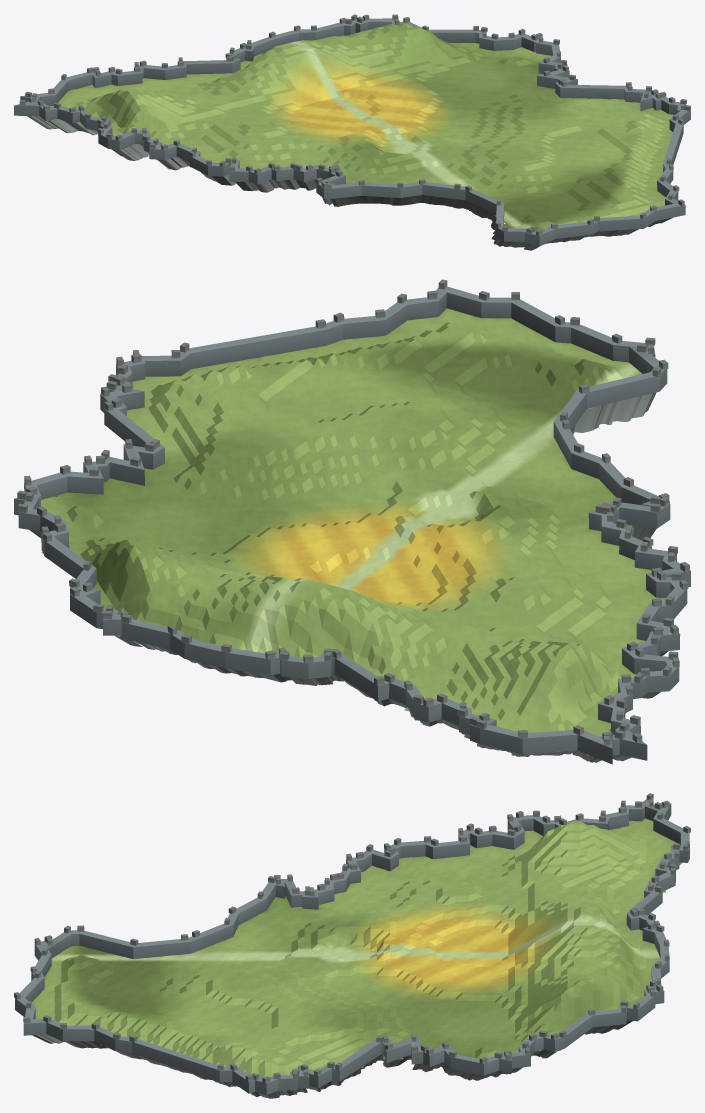
3 views of the same model, one above another, from view 1: azimuth 30°, elevation 25°; view 2: azimuth 150°, elevation 25°; view 3: azimuth 270°, elevation 25° (orthographic). The views are drawn at different scales.
Visible parts, largest first — view 1: ground_0d35d5d9; view 2: ground_0d35d5d9; view 3: ground_0d35d5d9.
Boxes of the visible parts, bbox=[...] form: ground_0d35d5d9: bbox=[14, 14, 690, 250]; ground_0d35d5d9: bbox=[14, 279, 690, 764]; ground_0d35d5d9: bbox=[14, 793, 690, 1098].
Size of the model in its own units: 156 by 12.63 by 154.
2 materials, 1 textured.
